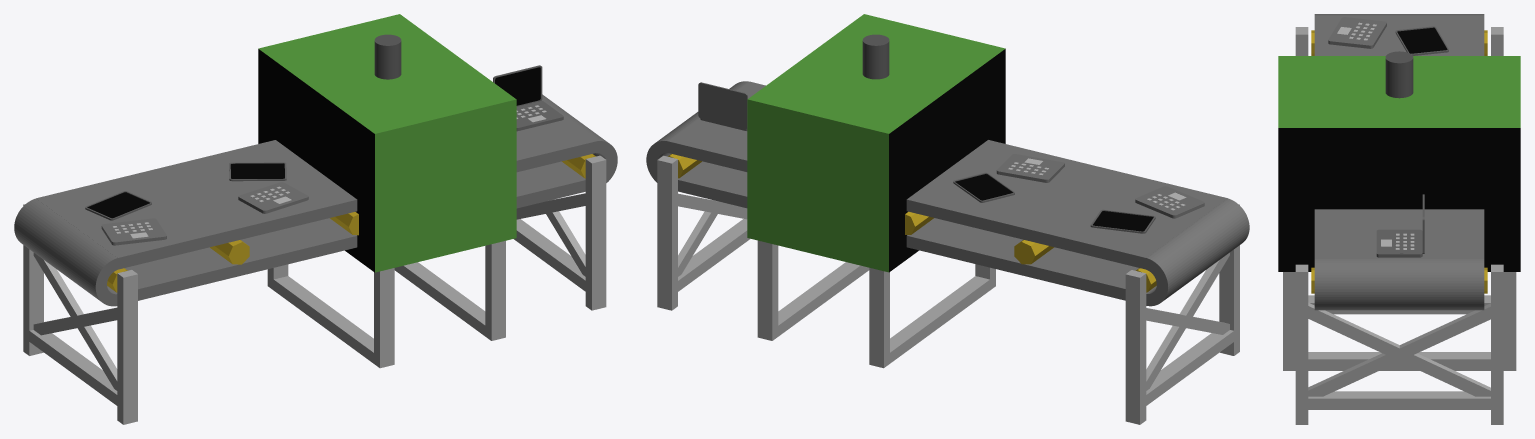
Rendered from general1.glb.
The picture shows the model from 3 angles, left to right: view 1: azimuth 30°, elevation 25°; view 2: azimuth 150°, elevation 25°; view 3: azimuth 270°, elevation 25°; orthographic projection. The views are drawn at different scales.
Visible parts, largest first — view 1: machine, belt_sup, machine.002, belt_inf.001, belt_end, foot2.001, foot2, foot3.002, computer1, foot3.003, foot2.002, foot2.005 (+14 smaller); view 2: machine, belt_sup, machine.002, belt_inf.001, belt_end, foot1, foot1.001, foot3.002, foot2.006, foot3.003, foot2.003, foot3 (+14 smaller); view 3: machine.001, machine, belt_sup, belt_start, foot3.001, foot4.001, foot5.001, foot3.003, foot2.001, foot1.001, computer1, keyboard1 (+8 smaller).
Part boxes in pixels (x1,y1,x2,y2): machine: (258,14,516,272); belt_sup: (36,118,595,269); machine.002: (258,49,374,272); belt_inf.001: (107,161,585,300); belt_end: (14,198,117,306); foot2.001: (585,155,606,310); foot2: (117,270,137,424); foot3.002: (273,276,373,363); computer1: (493,65,563,131); foot3.003: (394,262,485,336); foot2.002: (374,268,394,368); foot2.005: (485,240,505,340); machine: (747,14,1005,272); belt_sup: (668,81,1227,269); machine.002: (889,49,1005,272); belt_inf.001: (678,161,1156,300); belt_end: (1146,198,1249,306); foot1: (1125,270,1146,424); foot1.001: (657,155,677,310); foot3.002: (890,276,989,363); foot2.006: (757,240,778,340); foot3.003: (778,262,869,336); foot2.003: (869,268,889,368); foot3: (1146,330,1233,405); machine.001: (1278,128,1520,271); machine: (1278,56,1520,127); belt_sup: (1314,16,1484,258); belt_start: (1314,258,1484,310); foot3.001: (1307,391,1491,409); foot4.001: (1308,303,1490,396); foot5.001: (1308,302,1490,396); foot3.003: (1308,352,1490,370); foot2.001: (1295,264,1308,424); foot1.001: (1491,264,1503,424); computer1: (1376,194,1424,257); keyboard1: (1328,17,1386,48).
Bounding box in the file's own units: 4.5 × 2.24 × 1.74.
